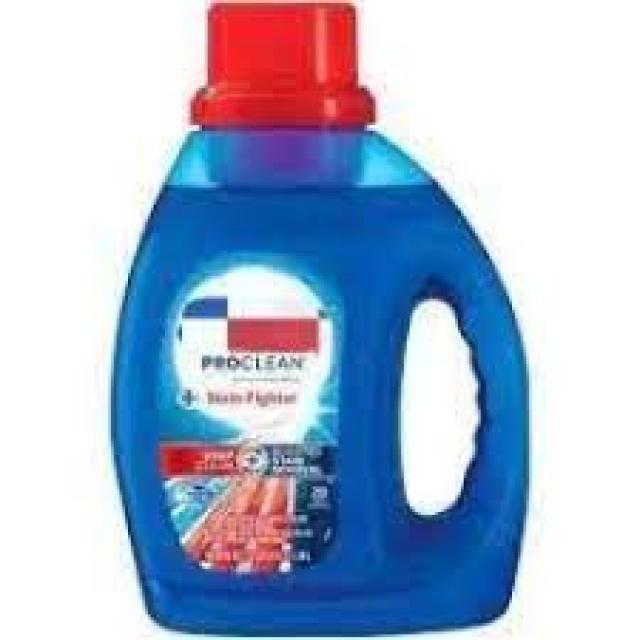liquid soap: (108, 0, 548, 640)
